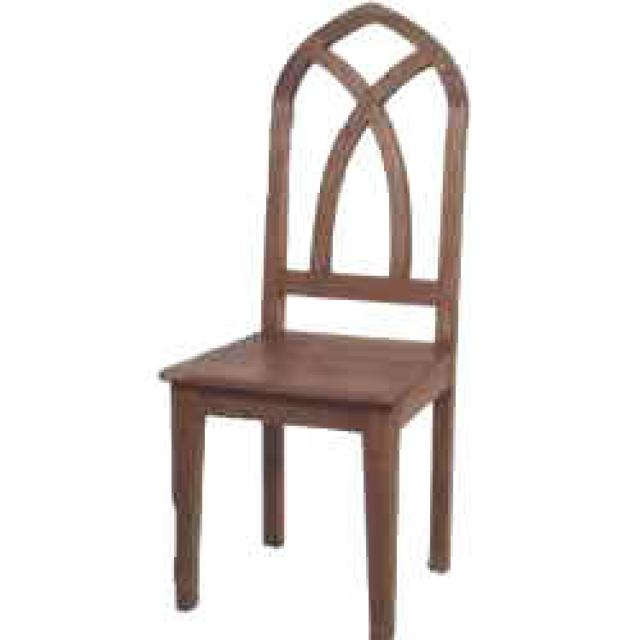chair: (156, 0, 468, 637)
